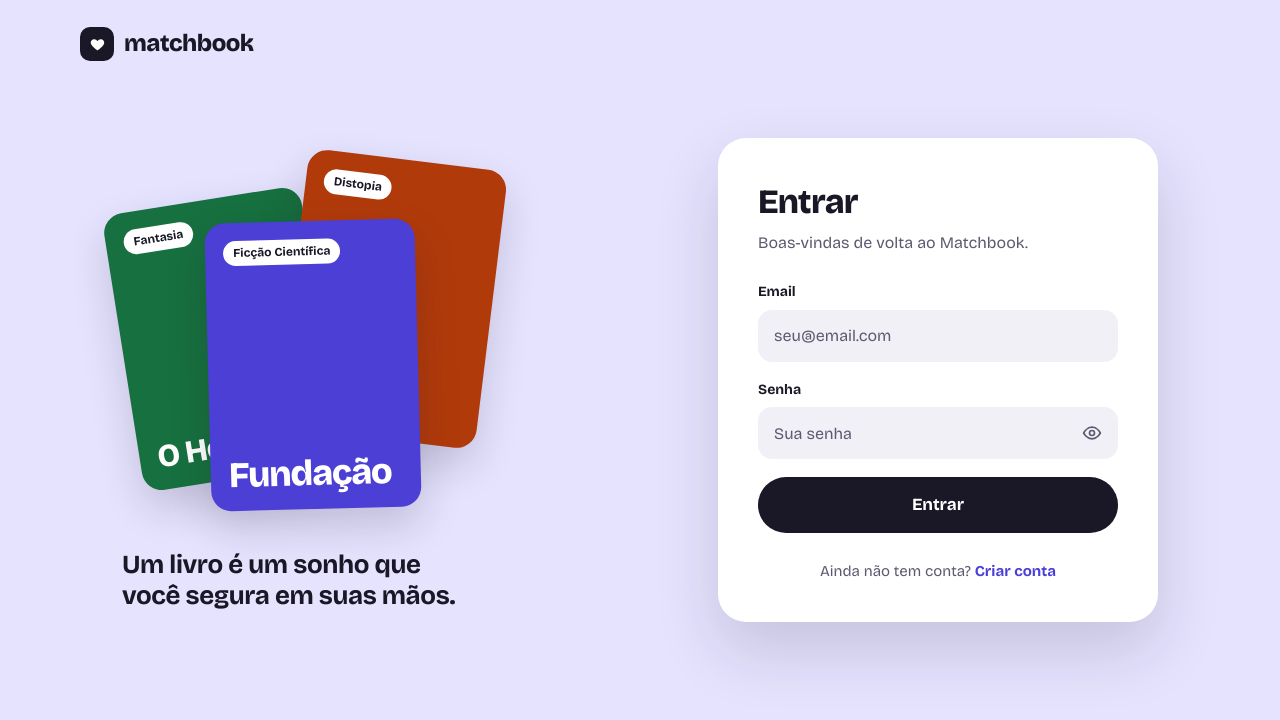
it: login and sign-up › warns when the password is wrong
The image size is (1280, 720).
Type "ana@email.com" into the field labelled "Email" at (938, 336), box [758,310,1118,362]
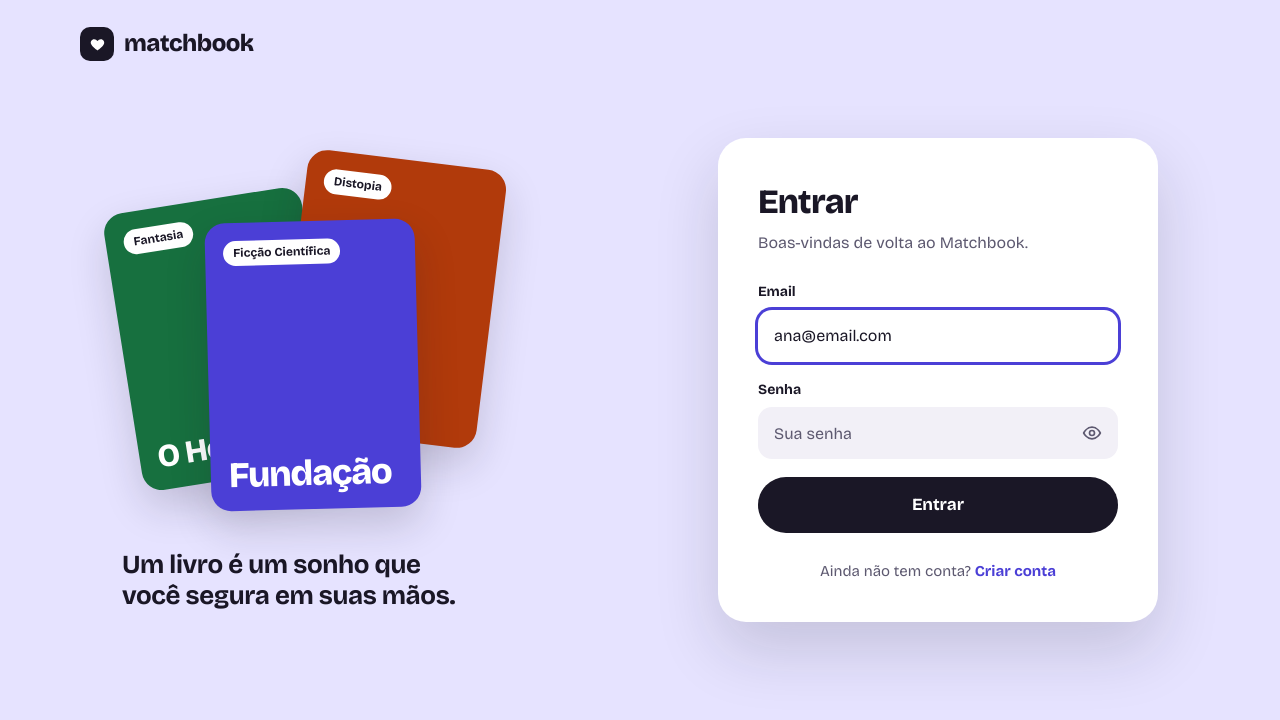
Type "errada" into the password field labelled "Senha" at (938, 434), box [758,408,1118,460]
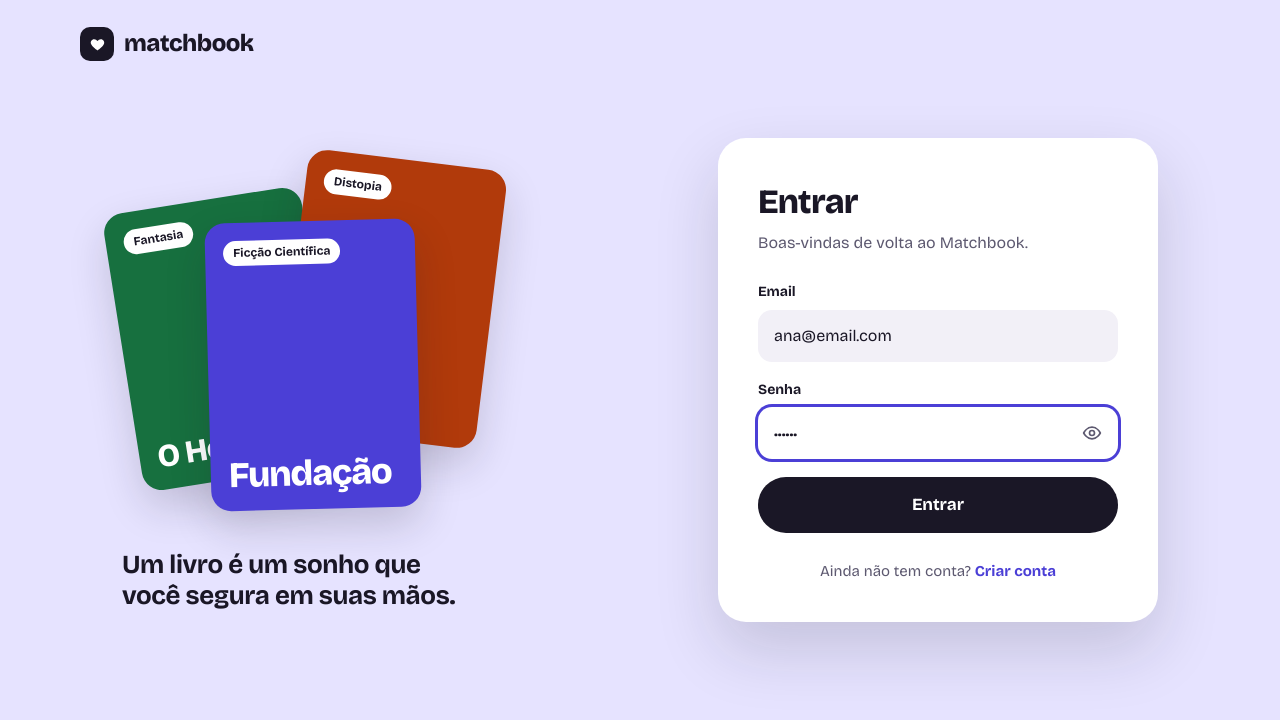
Click the button "Entrar" at (938, 506), box [758,478,1118,534]
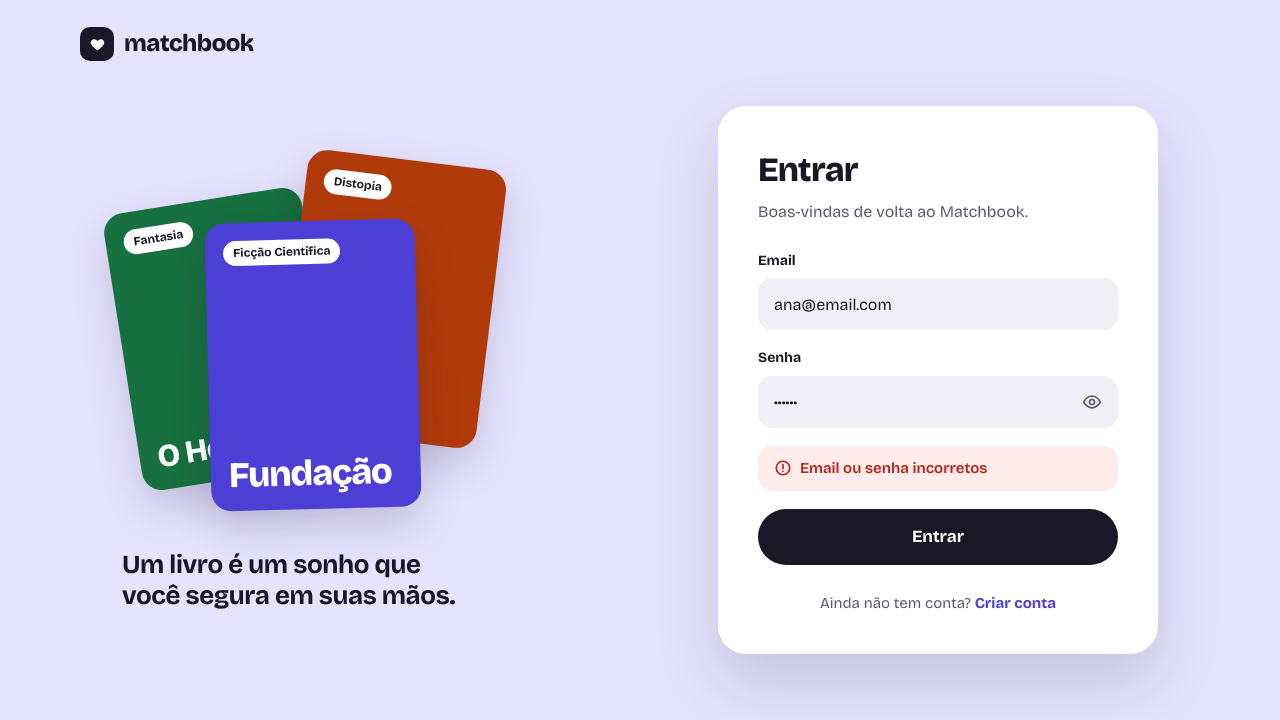
Expected: the message reads "Email ou senha incorretos", [800,459,987,477]
